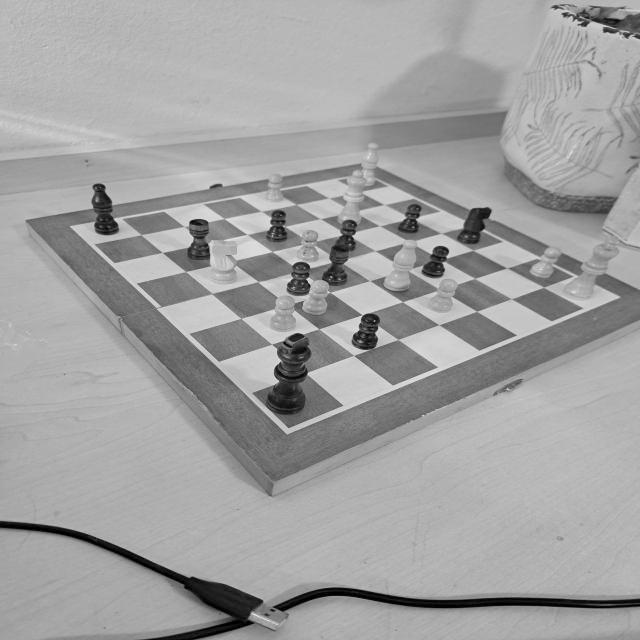chess-table-corners: (273, 418, 304, 438), (600, 288, 624, 306), (67, 221, 86, 234)
